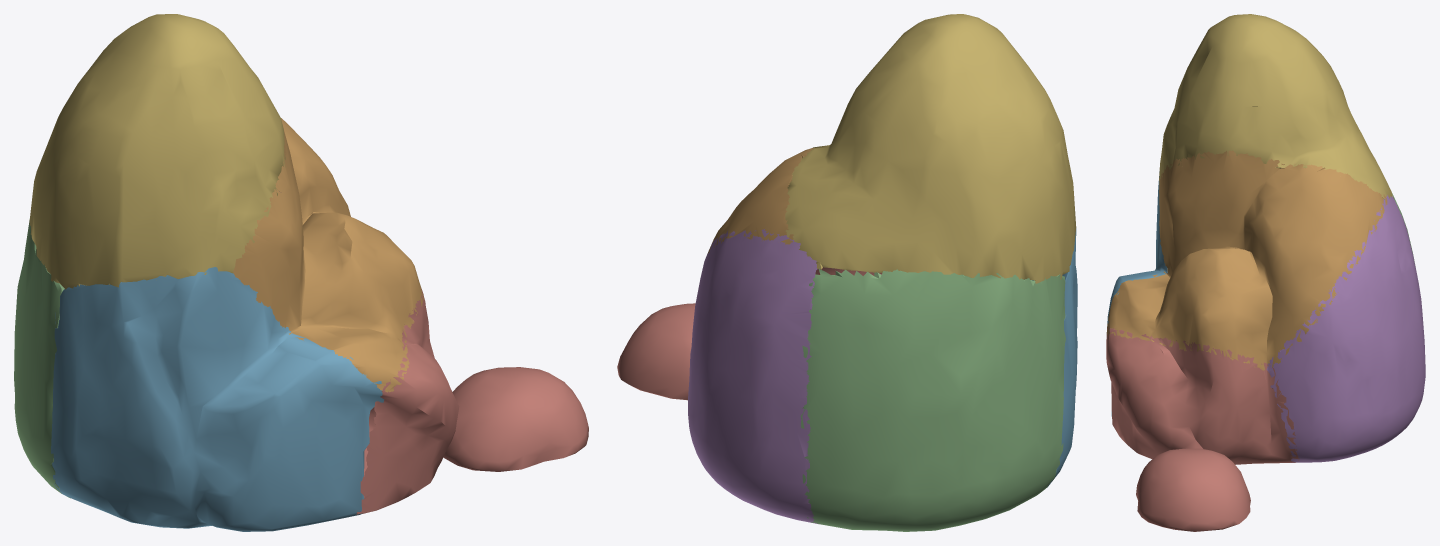
File: desert-rocks-parts_preview_web.glb
The picture shows the model from 3 angles, left to right: view 1: azimuth 30°, elevation 25°; view 2: azimuth 150°, elevation 25°; view 3: azimuth 270°, elevation 25°; orthographic projection. The views are drawn at different scales.
Visible parts, largest first — view 1: part_00_preview; view 2: part_00_preview; view 3: part_00_preview.
Part boxes in pixels (bbox=[...]): part_00_preview: bbox=[14, 14, 588, 531]; part_00_preview: bbox=[617, 14, 1077, 531]; part_00_preview: bbox=[1106, 14, 1425, 531].
Bounding box in the file's own units: 1.99 × 1.81 × 1.41.
